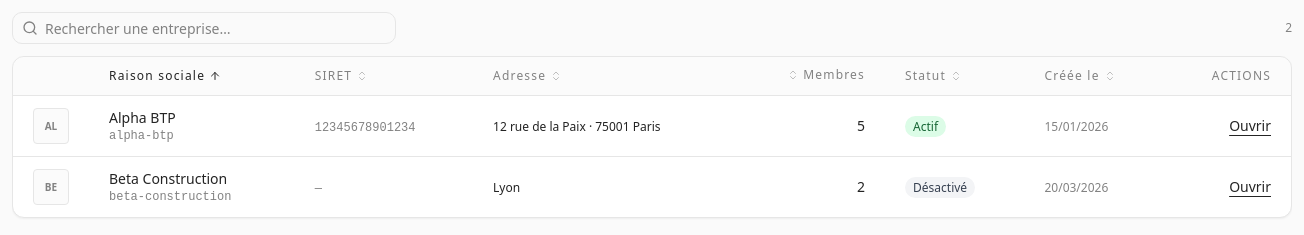
it: EntreprisesTable › recherche › filtre par raison sociale
In the search field labelled "Rechercher": (204, 28) left=12, top=12, right=396, bottom=44, type "beta"
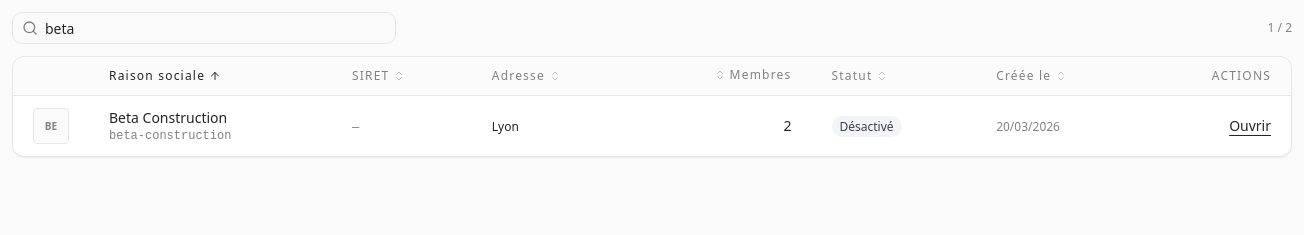
Expected: the text "Beta Construction" is shown, left=109, top=108, right=227, bottom=127
Now the text "Alpha BTP" is gone
